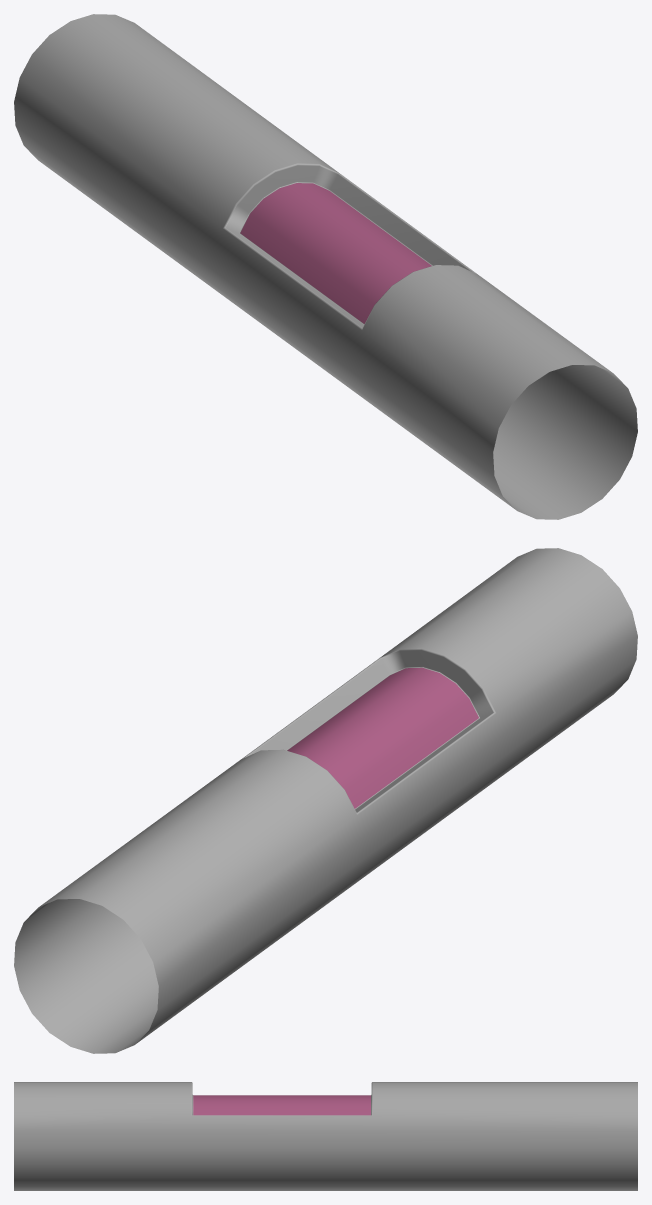
The model's file is GrosTuyaux.fbx.
3 renders of one model, top to bottom at view 1: azimuth 30°, elevation 25°; view 2: azimuth 150°, elevation 25°; view 3: azimuth 270°, elevation 25°, orthographic. The views are drawn at different scales.
Parts seen in each view (by area): view 1: GrosTuyaux_ouvert1; view 2: GrosTuyaux_ouvert1; view 3: GrosTuyaux_ouvert1.
Part boxes in pixels (<box>): GrosTuyaux_ouvert1: <box>14,14,637,519</box>; GrosTuyaux_ouvert1: <box>14,548,637,1053</box>; GrosTuyaux_ouvert1: <box>14,1082,637,1190</box>.
Size of the model in its own units: 1.99 by 1.99 by 11.4.
